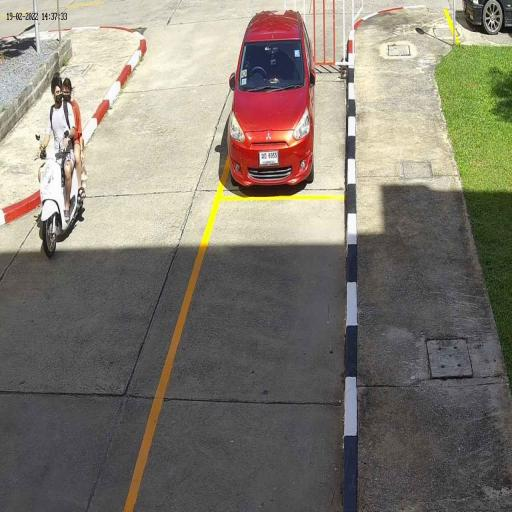car: (226, 10, 318, 190)
motorcycle: (37, 151, 86, 256)
